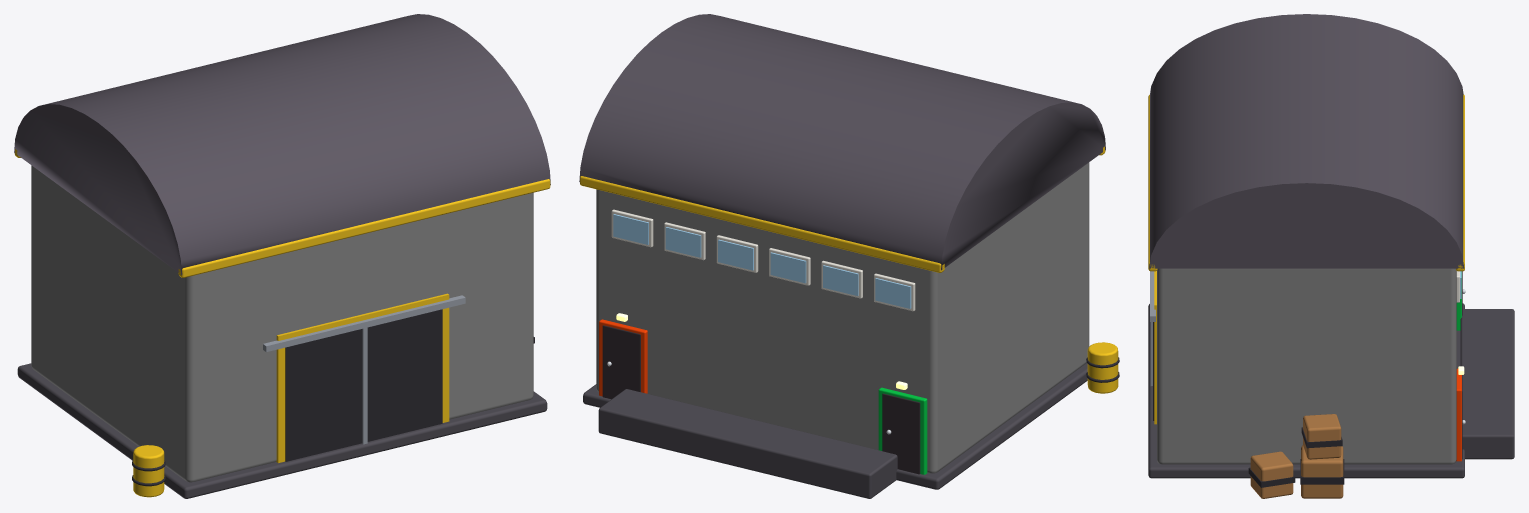
The model's file is building_freight_warehouse_t2.glb.
3 views of the same model, side by side, from view 1: azimuth 30°, elevation 25°; view 2: azimuth 150°, elevation 25°; view 3: azimuth 270°, elevation 25° (orthographic). The views are drawn at different scales.
Visible parts, largest first — view 1: Roof.Barrel, Walls, BigDoor, Plinth, Eave, BigDoor.Frame, BigDoor.Rail, Drum.Drum, BigDoor.Split; view 2: Walls, Roof.Barrel, Dock, Eave.001, Plinth, Entry.Leaf, Exit.Leaf, Drum.Drum, Entry.Frame, Exit.Frame, HighWin.Pane.002, HighWin.Pane (+4 smaller); view 3: Roof.Barrel, Walls, Dock, Plinth, Crate1.Box, Crate2.Box, Crate3.Box, Exit.Frame, BigDoor.Frame, Crate1.Band.
Boxes of the visible parts, bbox=[...] form: Roof.Barrel: bbox=[14, 14, 550, 274]; Walls: bbox=[31, 165, 533, 482]; BigDoor: bbox=[285, 309, 442, 461]; Plinth: bbox=[17, 363, 547, 498]; Eave: bbox=[178, 179, 550, 277]; BigDoor.Frame: bbox=[276, 293, 449, 463]; BigDoor.Rail: bbox=[263, 295, 465, 352]; Drum.Drum: bbox=[133, 445, 164, 497]; BigDoor.Split: bbox=[362, 327, 367, 444]; Walls: bbox=[596, 162, 1089, 473]; Roof.Barrel: bbox=[579, 14, 1105, 270]; Dock: bbox=[598, 389, 897, 498]; Eave.001: bbox=[580, 176, 944, 272]; Plinth: bbox=[583, 363, 1087, 489]; Entry.Leaf: bbox=[882, 393, 920, 474]; Exit.Leaf: bbox=[602, 325, 640, 399]; Drum.Drum: bbox=[1087, 342, 1118, 393]; Entry.Frame: bbox=[878, 387, 927, 474]; Exit.Frame: bbox=[599, 319, 647, 396]; HighWin.Pane.002: bbox=[770, 252, 806, 283]; HighWin.Pane: bbox=[875, 278, 911, 308]; Roof.Barrel: bbox=[1149, 14, 1464, 268]; Walls: bbox=[1157, 268, 1456, 464]; Dock: bbox=[1460, 309, 1514, 459]; Plinth: bbox=[1148, 303, 1464, 478]; Crate1.Box: bbox=[1301, 445, 1343, 498]; Crate2.Box: bbox=[1250, 451, 1293, 498]; Crate3.Box: bbox=[1303, 414, 1341, 459]; Exit.Frame: bbox=[1456, 368, 1461, 461]; BigDoor.Frame: bbox=[1154, 271, 1156, 424]; Crate1.Band: bbox=[1300, 459, 1344, 484].
Size of the model in its own units: 6.21 by 4.25 by 4.74.
